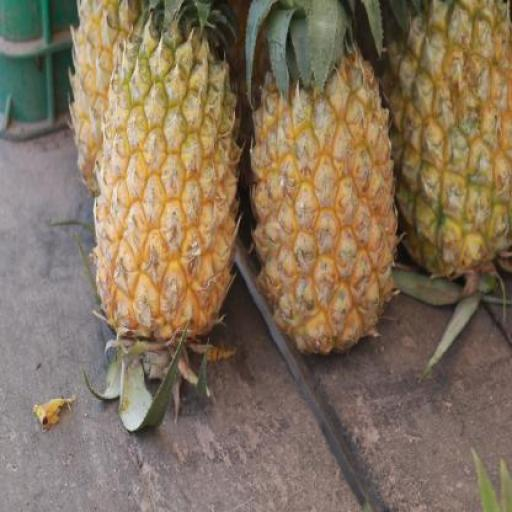------------------------------: (391, 0, 511, 271)
Pineapple - v8 v1: (95, 27, 240, 351), (250, 44, 399, 345), (70, 0, 168, 203)
